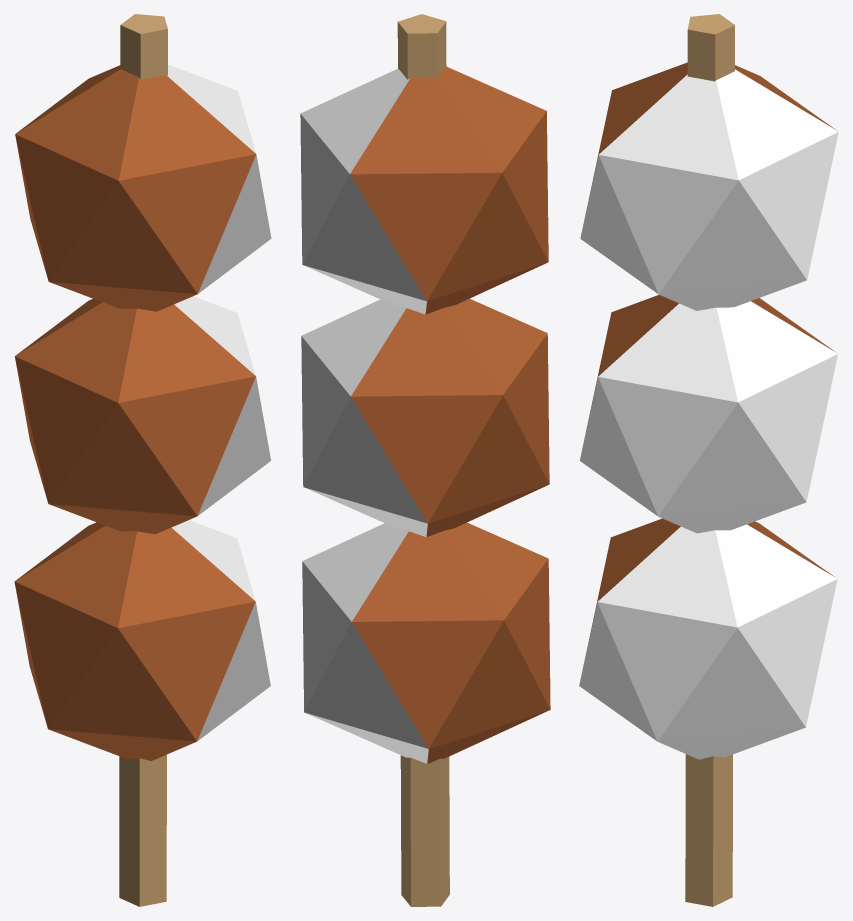
File: dango_mitarashi.fbx
3 renders of one model, left to right at view 1: azimuth 30°, elevation 25°; view 2: azimuth 150°, elevation 25°; view 3: azimuth 270°, elevation 25°, orthographic.
Visible parts, largest first — view 1: dango_mitarashi; view 2: dango_mitarashi; view 3: dango_mitarashi.
Boxes of the visible parts, box(x1,y1,x2,y2) form: dango_mitarashi: box(14, 14, 271, 906); dango_mitarashi: box(300, 14, 550, 906); dango_mitarashi: box(579, 14, 838, 906).
Bounding box in the file's own units: 3.15 × 11.95 × 3.22.
